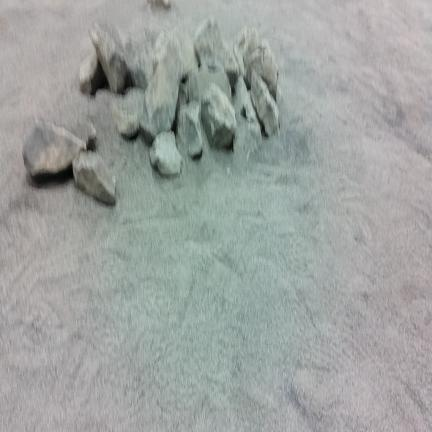Rock: (140, 38, 182, 141), (23, 121, 86, 176), (194, 18, 240, 87), (90, 23, 128, 93), (153, 25, 198, 78), (201, 83, 236, 149), (73, 152, 115, 205), (246, 39, 278, 99), (251, 70, 278, 135), (111, 88, 144, 138), (123, 37, 153, 90), (194, 18, 223, 70), (149, 132, 182, 176), (177, 102, 202, 158), (188, 69, 231, 101), (79, 52, 107, 96), (233, 117, 262, 154), (235, 27, 260, 69), (234, 77, 257, 122), (66, 118, 96, 151), (223, 41, 243, 89), (233, 43, 244, 76), (177, 83, 188, 112), (148, 0, 171, 10)
